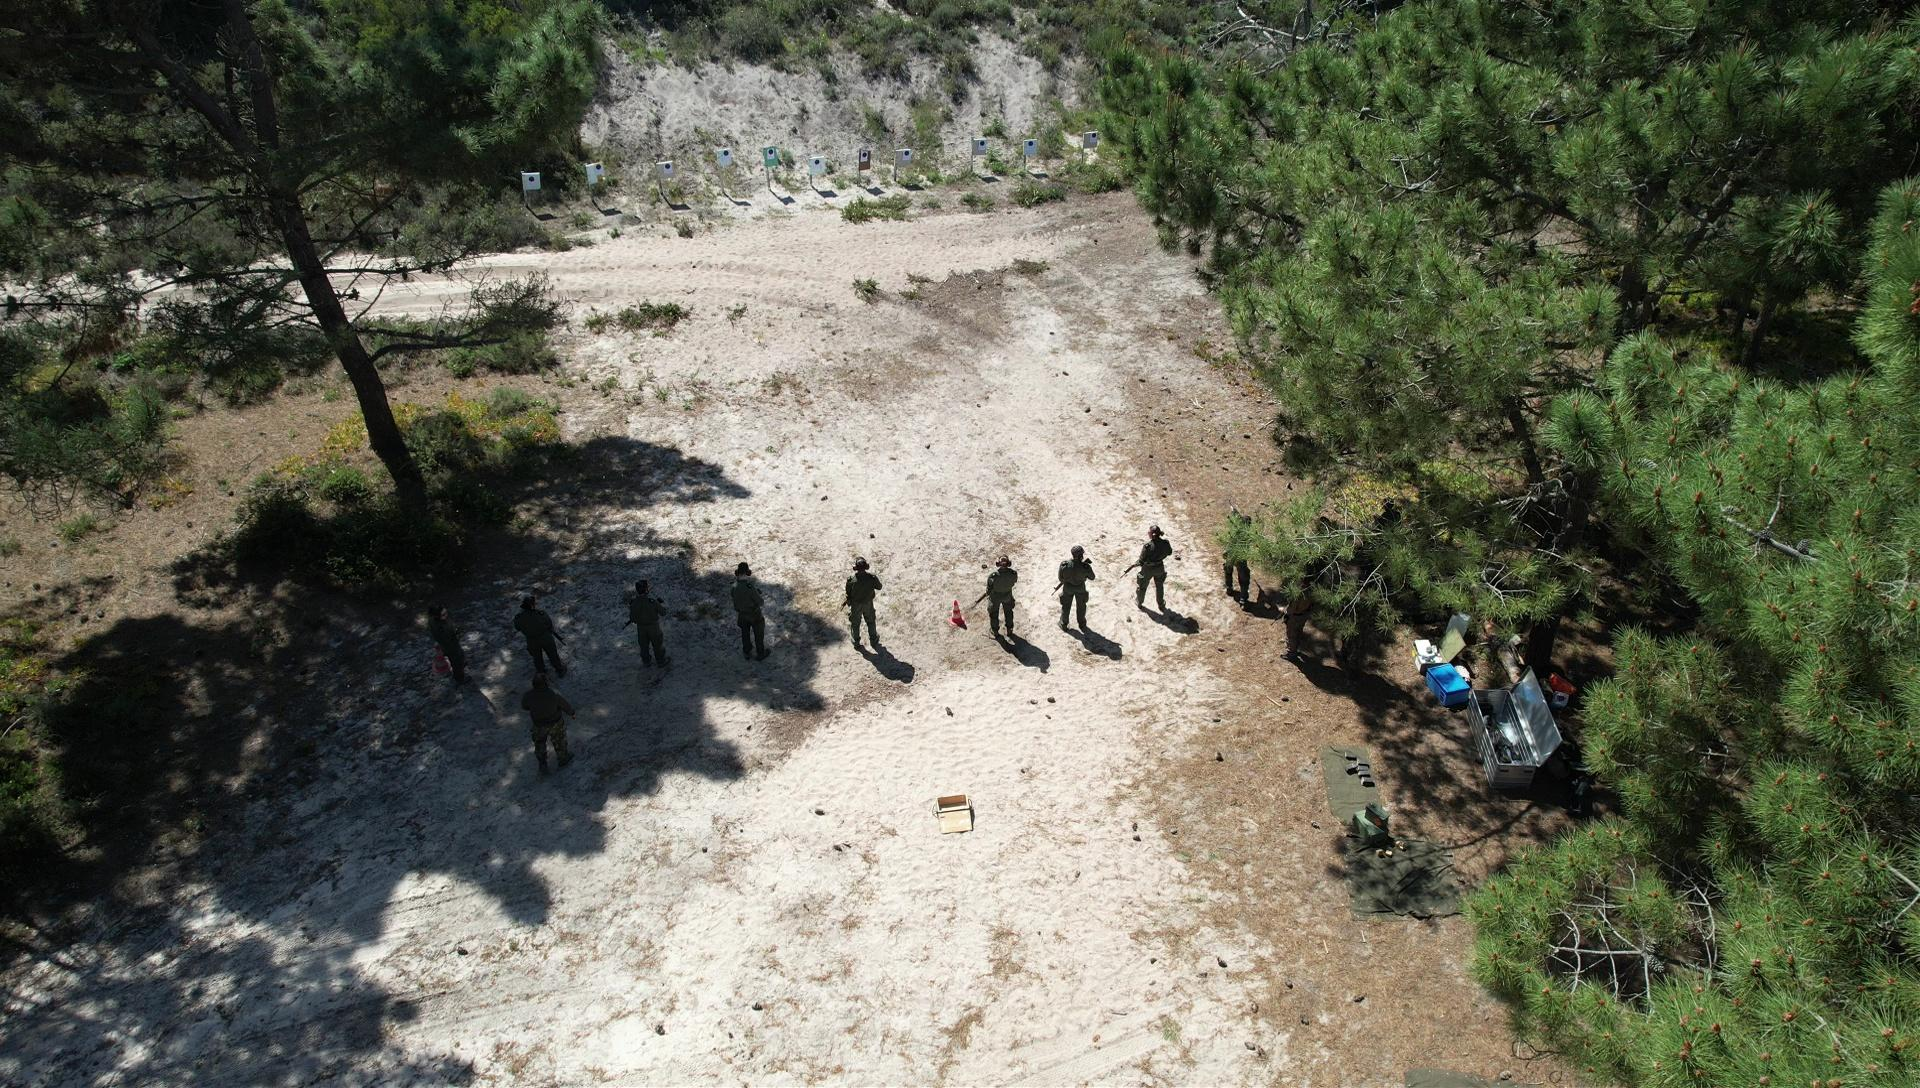Soldier: (512, 667, 587, 777), (727, 560, 785, 684), (836, 549, 893, 659), (618, 574, 676, 680), (419, 596, 476, 688), (1052, 535, 1098, 646), (1131, 514, 1178, 622), (978, 554, 1026, 651), (516, 600, 567, 688)
